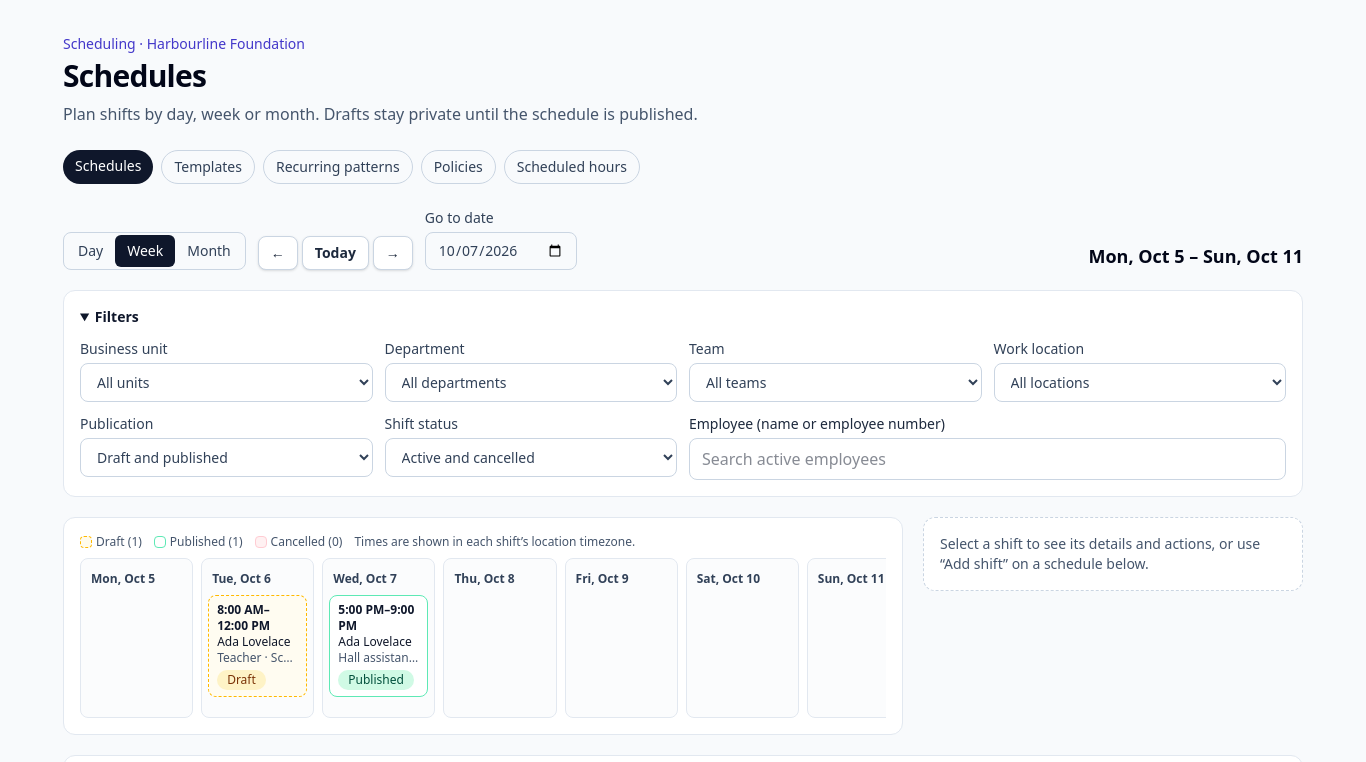
it: SchedulesAdminPage › corrects and cancels published shifts only with a reason, keeping the revision history
Later steps or results of the test are not shown.
Click the button with aria-label "Hall assistant, 2026-10-07": [379, 646] box [329,595,428,697]
(page scrolled)
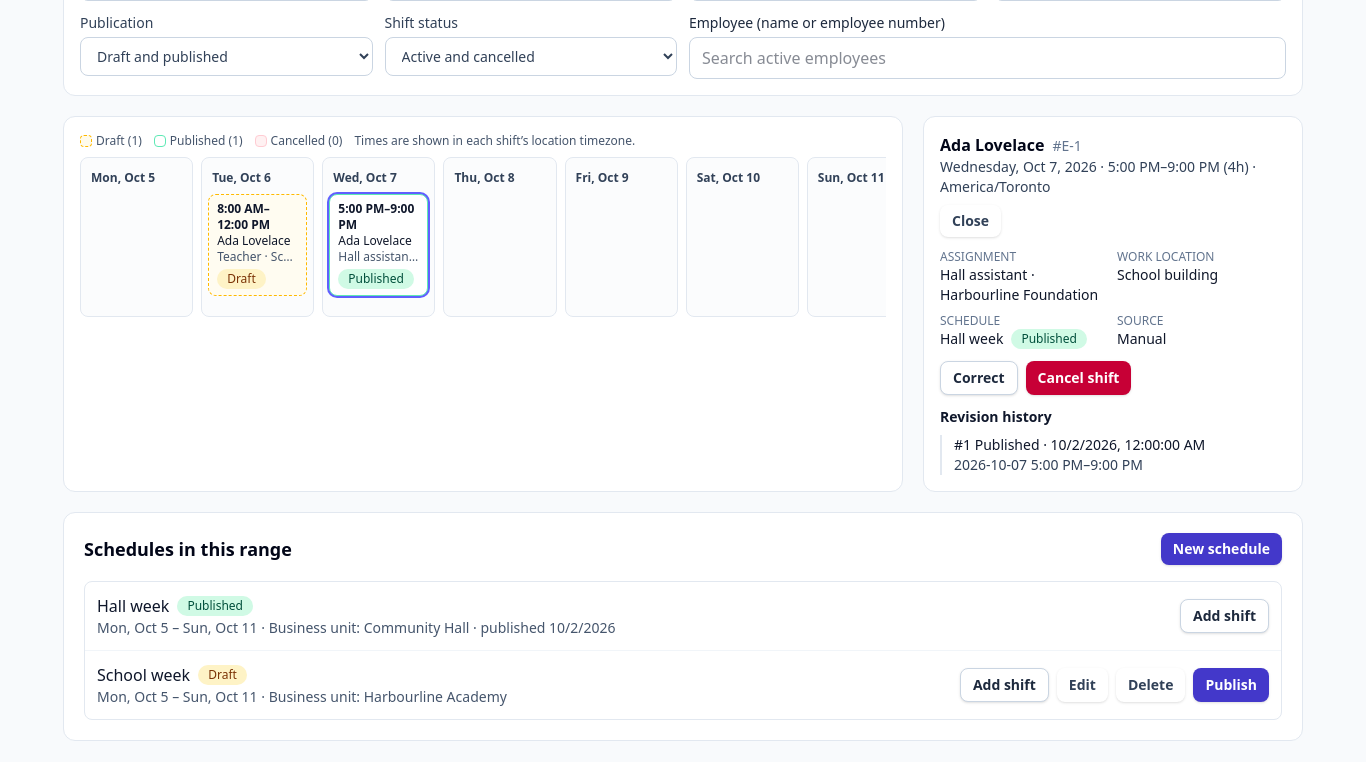
Result: the text "#1 Published · 10/2/2026, 12:00:00 AM" is shown at [954,435,1205,454]
